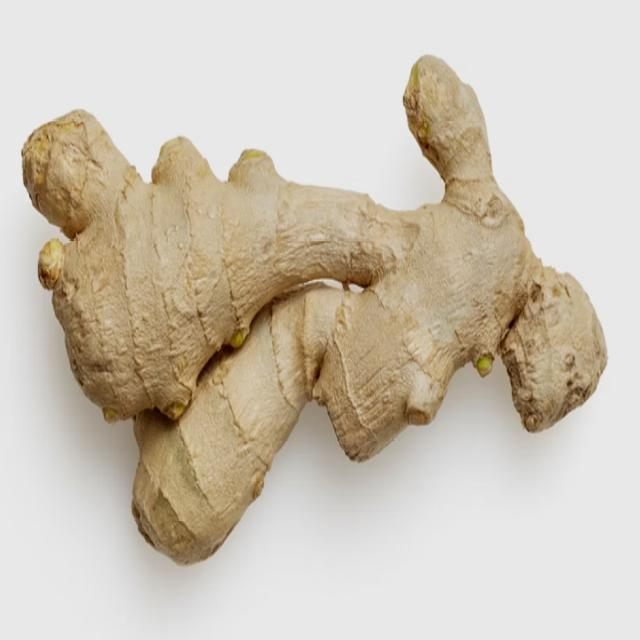ginger-root: (14, 54, 612, 552)
